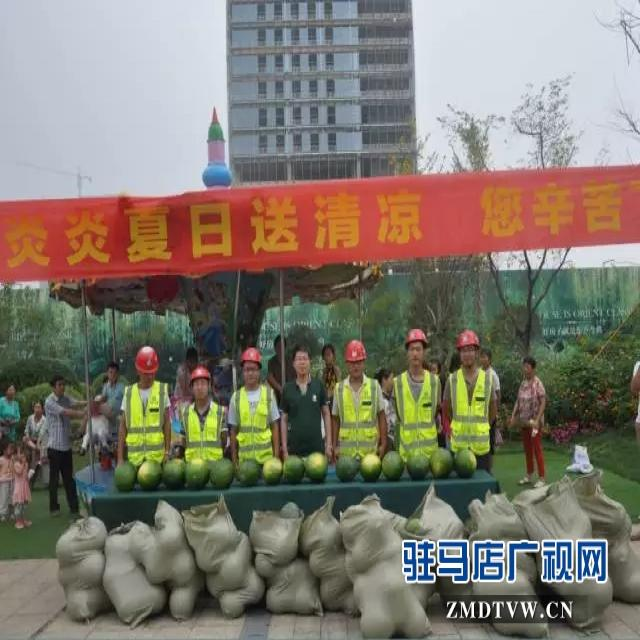Reflective-Jacket: (448, 367, 496, 455), (393, 370, 441, 455), (122, 380, 171, 462), (334, 378, 381, 452), (232, 384, 275, 460), (183, 402, 226, 462)
Safety-Helmet: (135, 344, 160, 374), (344, 338, 367, 362), (456, 328, 480, 348), (405, 326, 428, 346), (240, 344, 263, 364), (189, 364, 211, 382)
